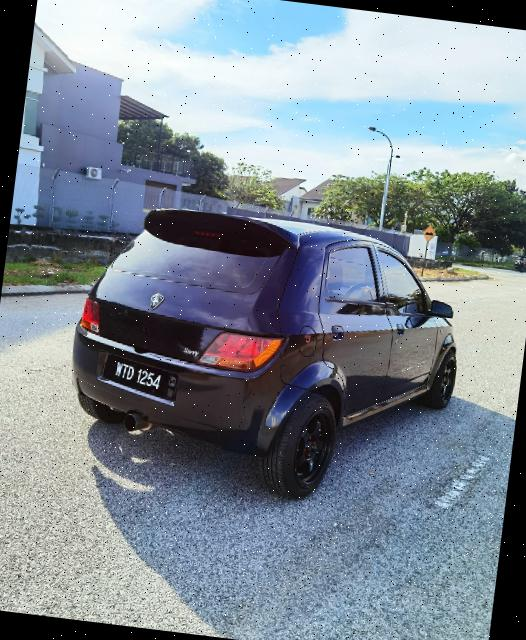License_Plate: (105, 353, 174, 395)
